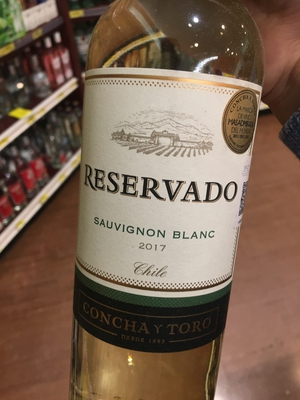reservado sauvignon blanc: (78, 9, 279, 400)
